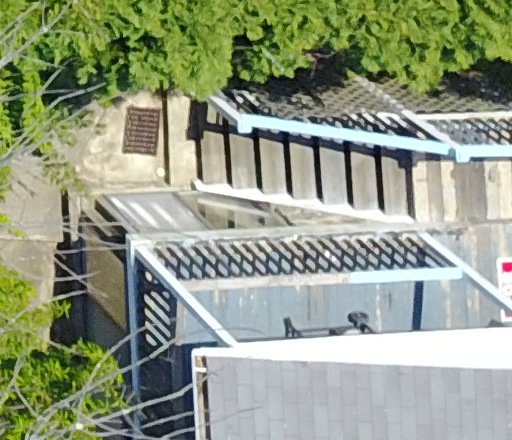porch: (35, 38, 506, 440)
